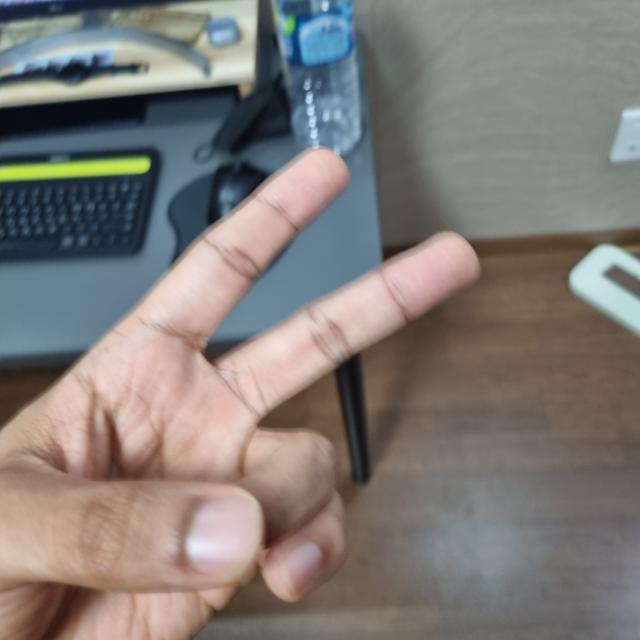Scissors: (0, 151, 474, 640)
